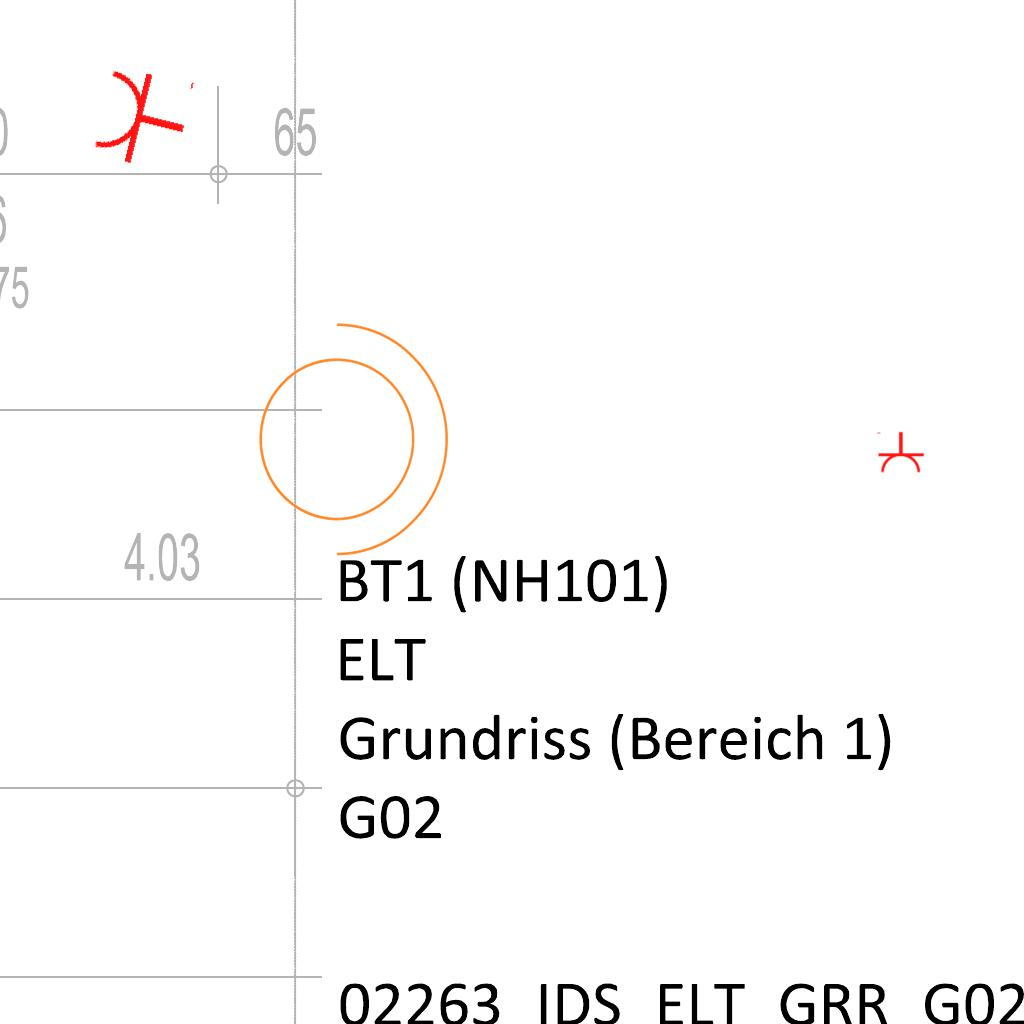Scheinwerfer_fuer_Alarmbeleuchtung: (234, 301, 459, 565)
Schukosteckdose_einfach: (89, 57, 198, 177), (875, 431, 925, 474)
